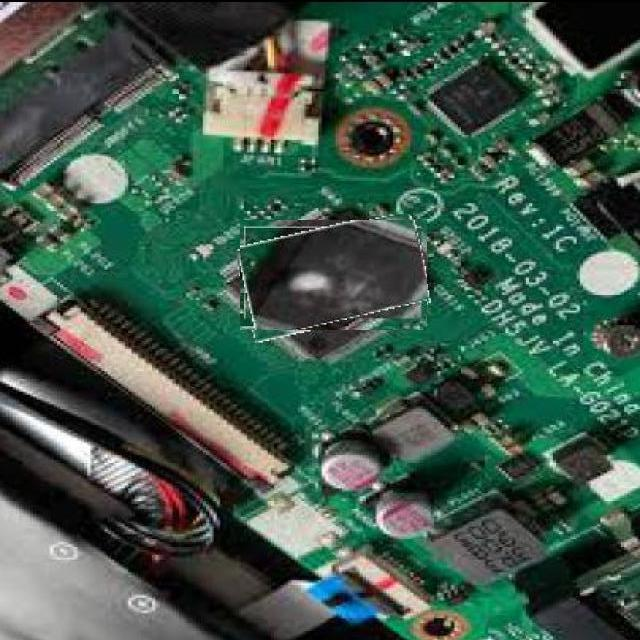damged: (240, 220, 427, 330)
